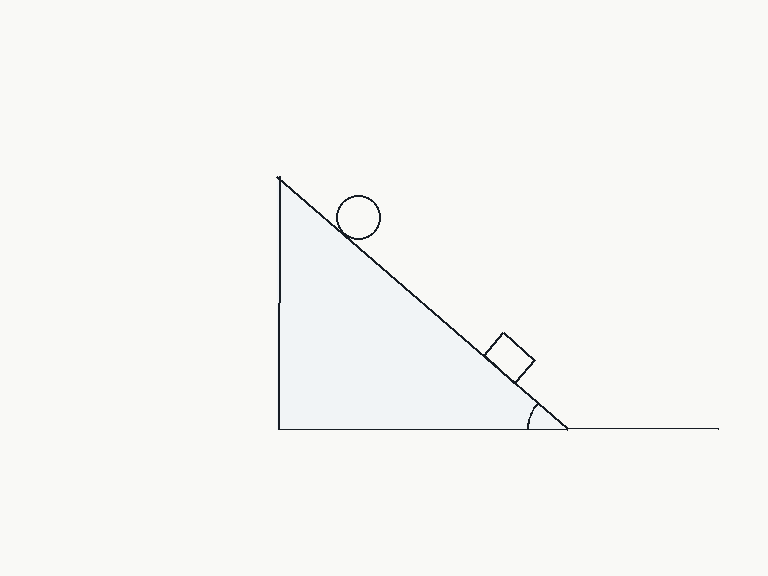ball: (334, 193, 382, 241)
block: (481, 330, 537, 385)
ramp: (275, 174, 570, 431)
